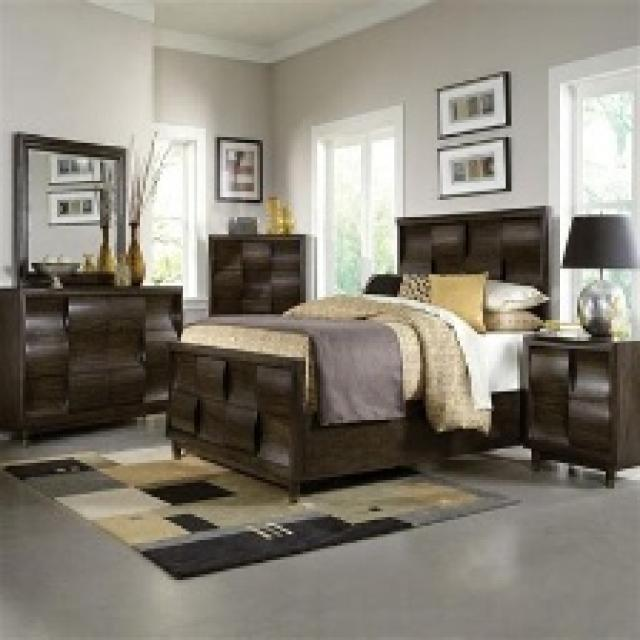Bed: (163, 203, 551, 503)
